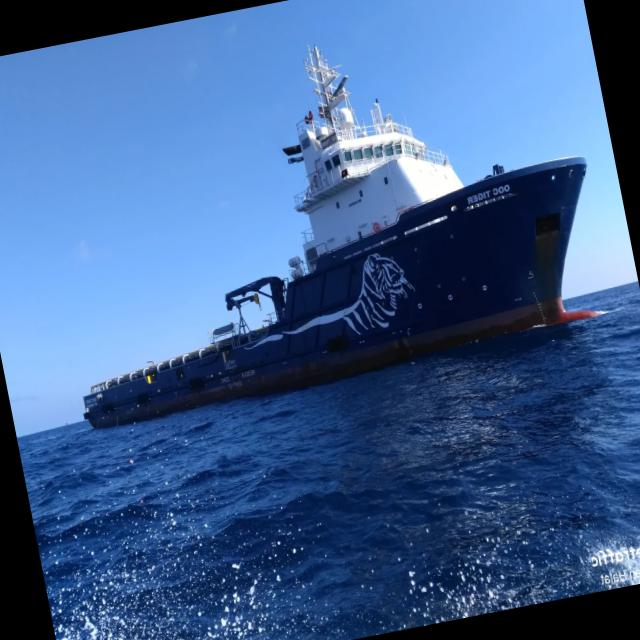Offshore: (84, 46, 600, 428)
